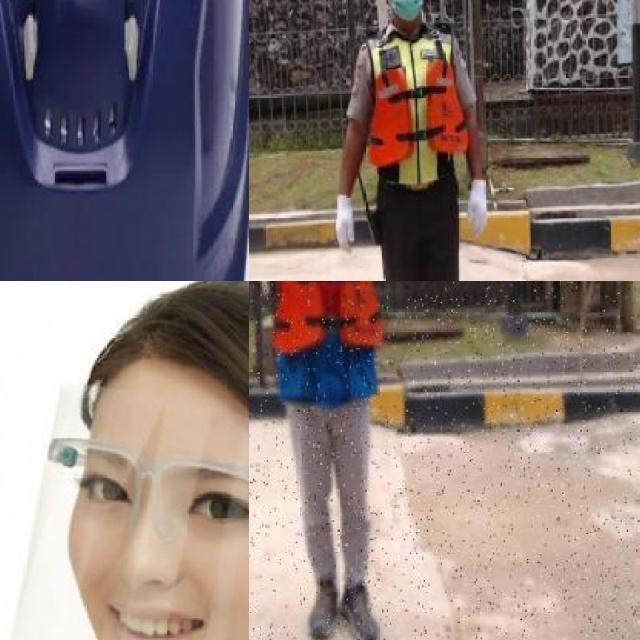apron: (464, 177, 490, 242), (334, 190, 358, 258)
